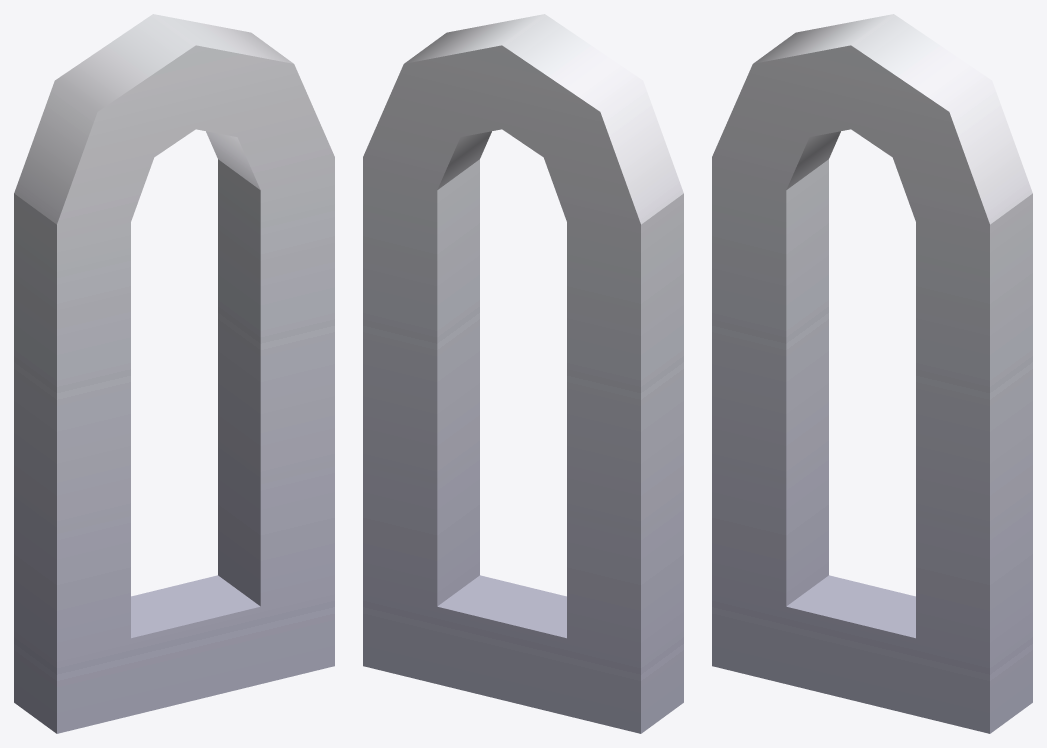
Rendered from window-white-round-narrow.glb.
3 renders of one model, left to right at view 1: azimuth 30°, elevation 25°; view 2: azimuth 150°, elevation 25°; view 3: azimuth 330°, elevation 25°, orthographic.
Visible parts, largest first — view 1: window-white-round-narrow; view 2: window-white-round-narrow; view 3: window-white-round-narrow.
Boxes of the visible parts, x1=… form: window-white-round-narrow: x1=14, y1=14, x2=334, y2=733; window-white-round-narrow: x1=363, y1=14, x2=683, y2=733; window-white-round-narrow: x1=712, y1=14, x2=1032, y2=733.
Size of the model in its own units: 0.1875 by 0.4219 by 0.05.
Materials: 1 (1 with a texture image).
